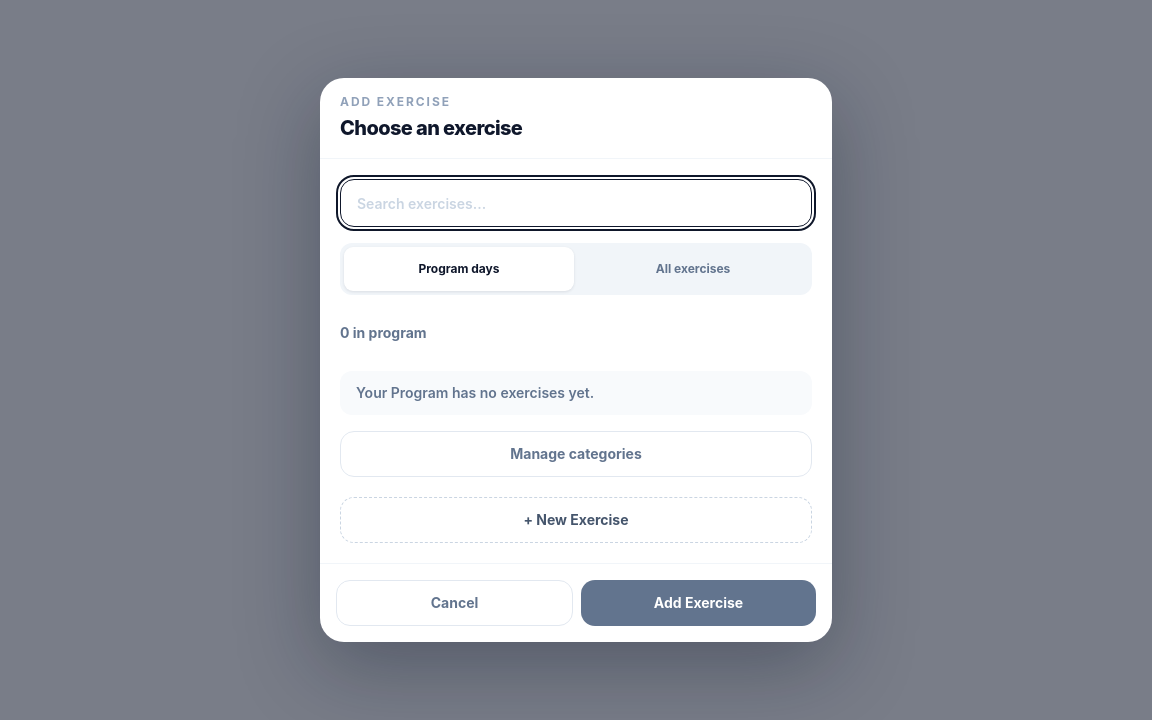
Scenario: exercise rename picker flow › falls back to a generic message when the failure is not a server error
Click the tab "All exercises" at (693, 269), box top-left (578, 247), bottom-right (808, 291)
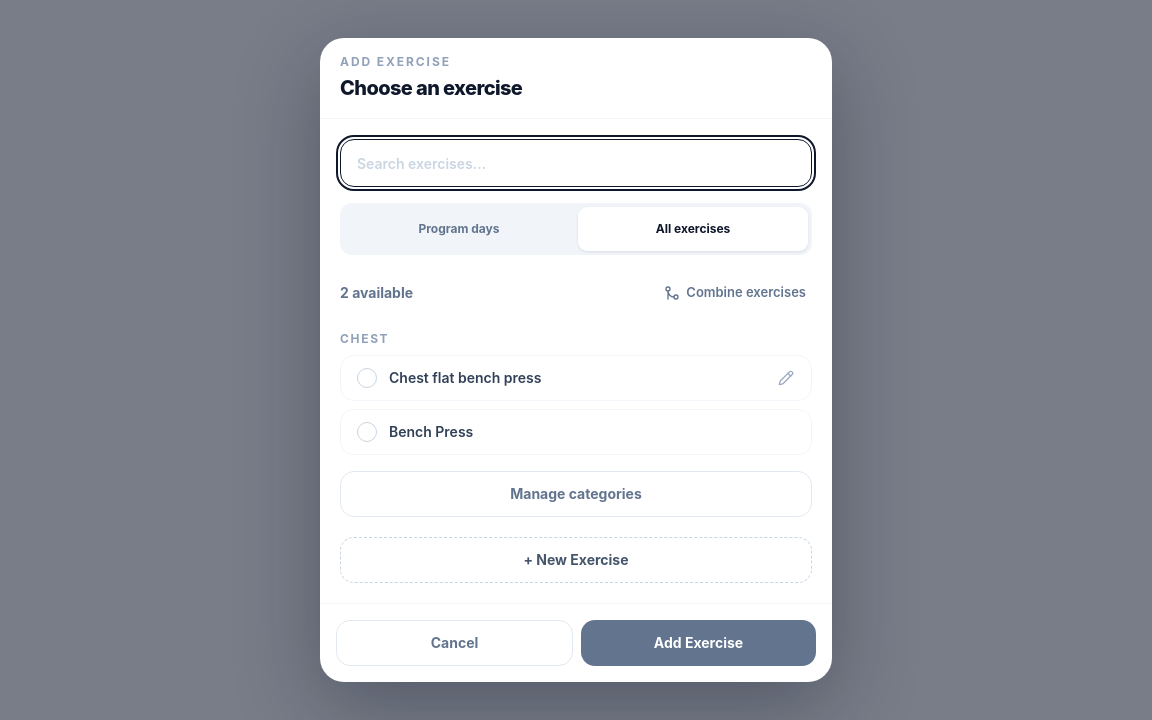
Click the button named "Edit exercise Chest flat bench press" at (786, 378), box top-left (764, 356), bottom-right (808, 400)
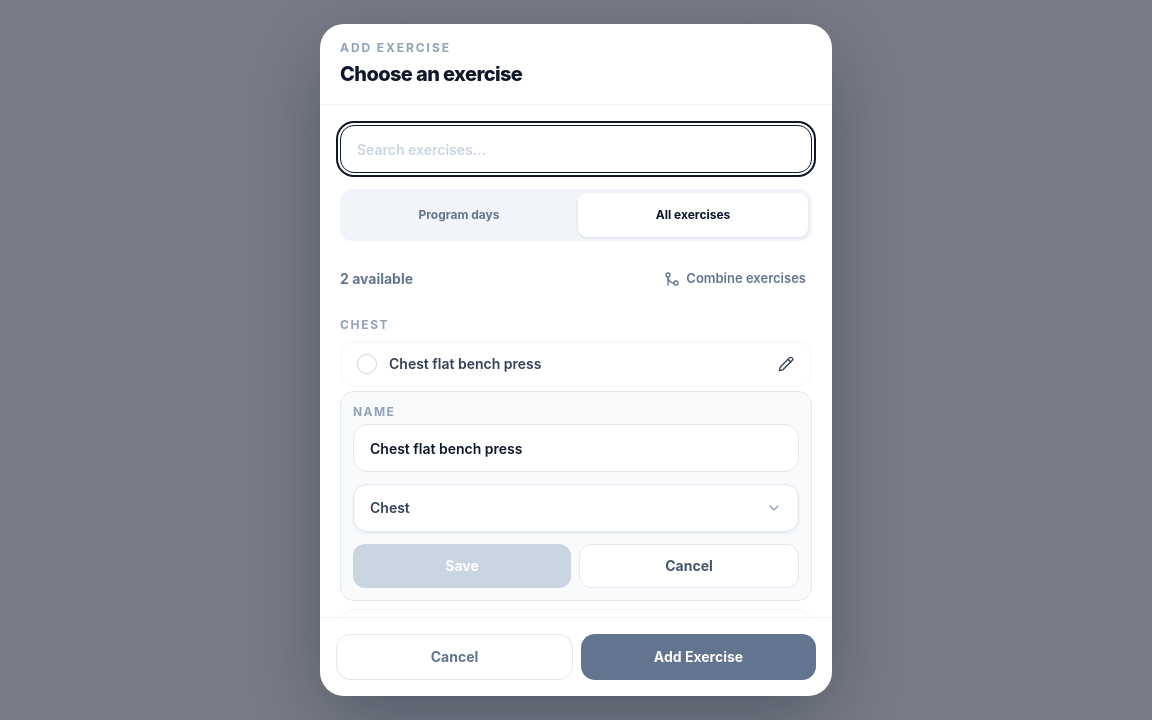
Replace the text in the field labelled "Name" with "Flat Bench Press" at (576, 448), box top-left (353, 424), bottom-right (799, 472)
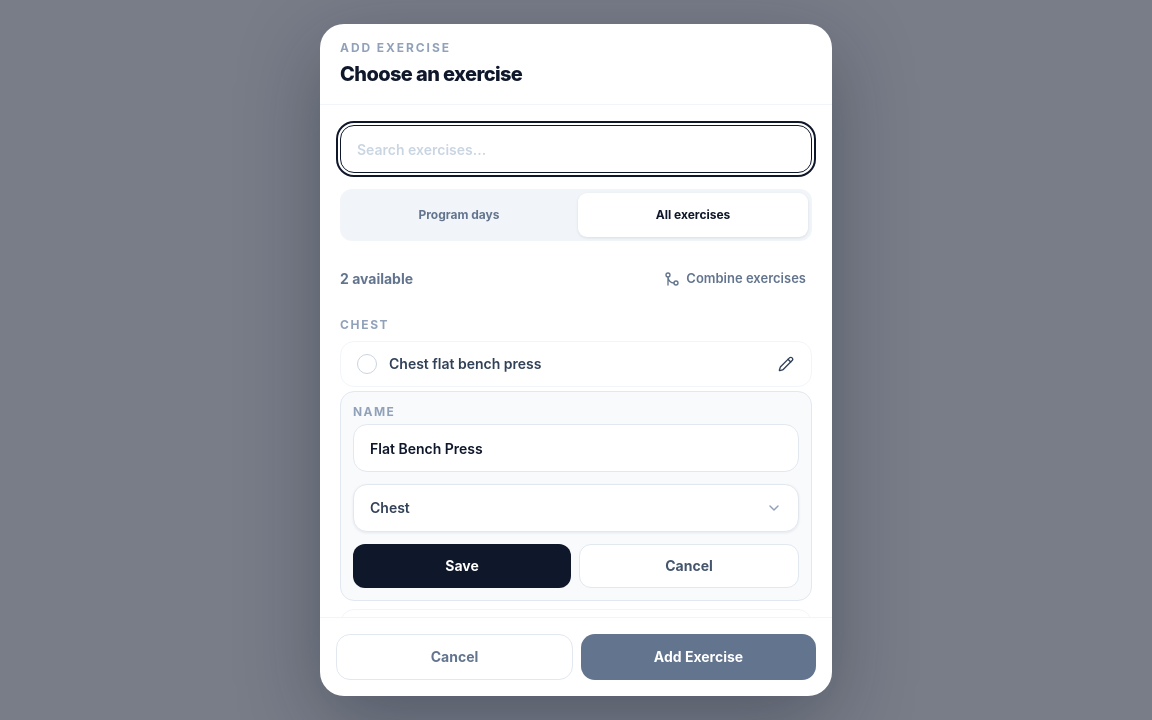
Click the button "Save" at (462, 566), box top-left (353, 544), bottom-right (571, 588)
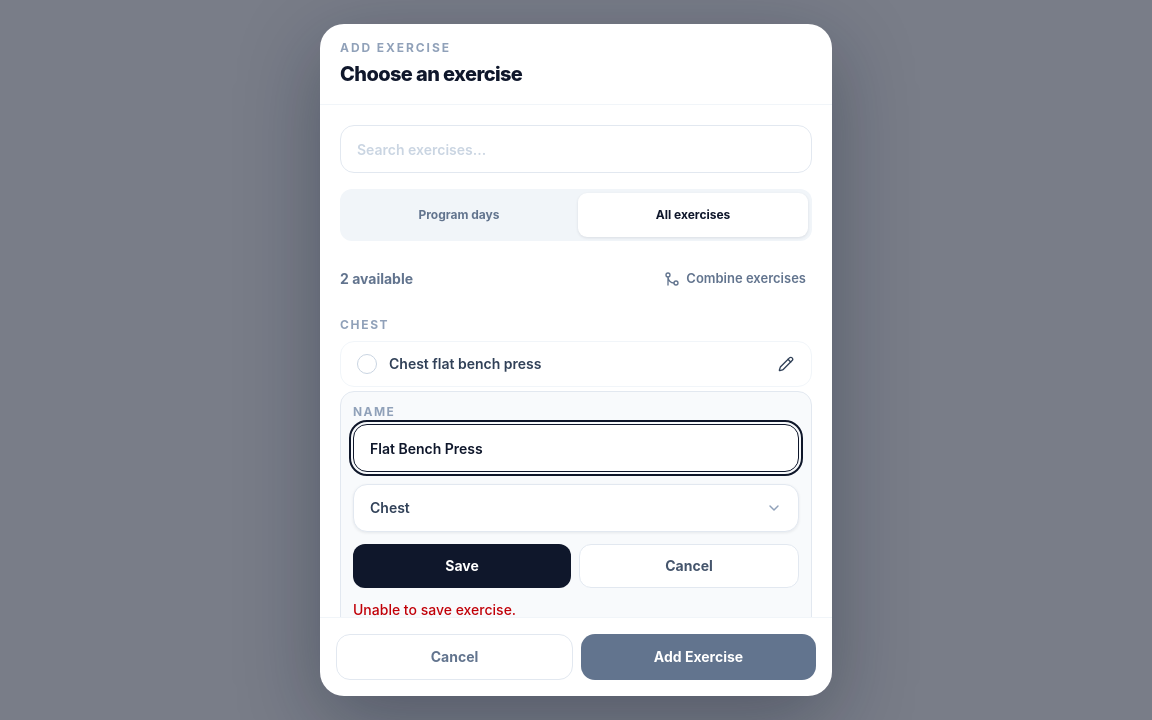
expect the message reads "Unable to save exercise.": met, box top-left (353, 601), bottom-right (516, 617)
